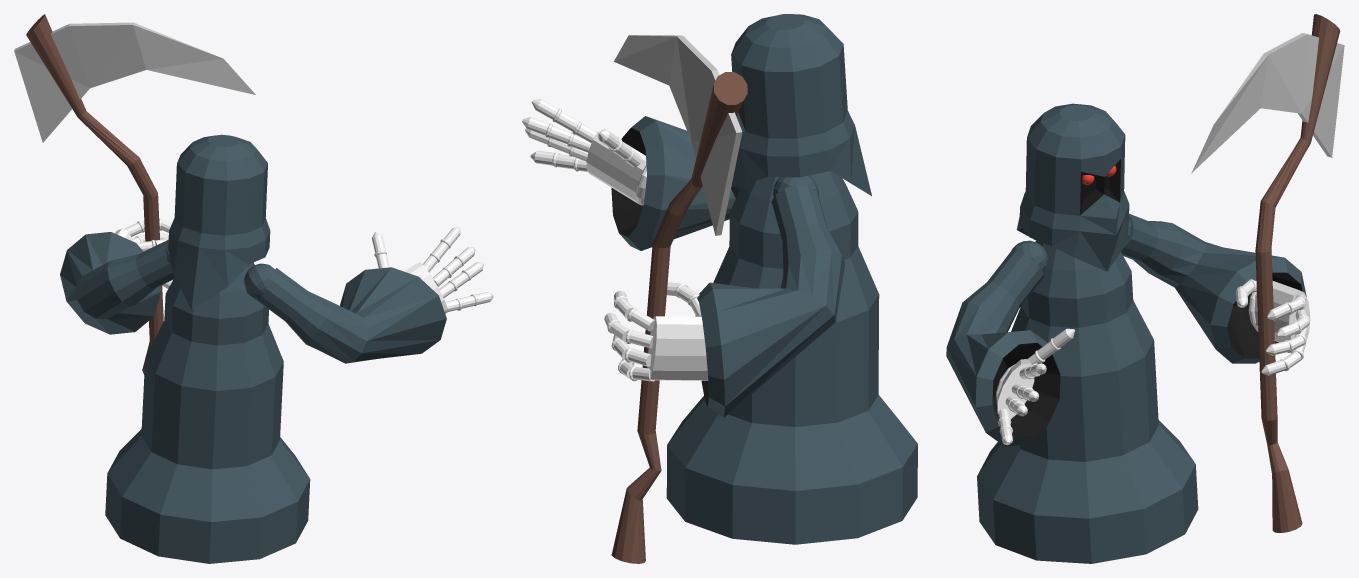
The model's file is reaper.fbx.
3 renders of one model, left to right at view 1: azimuth 30°, elevation 25°; view 2: azimuth 150°, elevation 25°; view 3: azimuth 270°, elevation 25°, orthographic. The views are drawn at different scales.
Visible parts, largest first — view 1: group_892375890; view 2: group_892375890; view 3: group_892375890.
Part boxes in pixels (x1,y1,x2,y2): group_892375890: [14, 14, 493, 563]; group_892375890: [522, 14, 917, 563]; group_892375890: [946, 14, 1344, 563].
Bounding box in the file's own units: 89.13 × 112 × 84.6.
